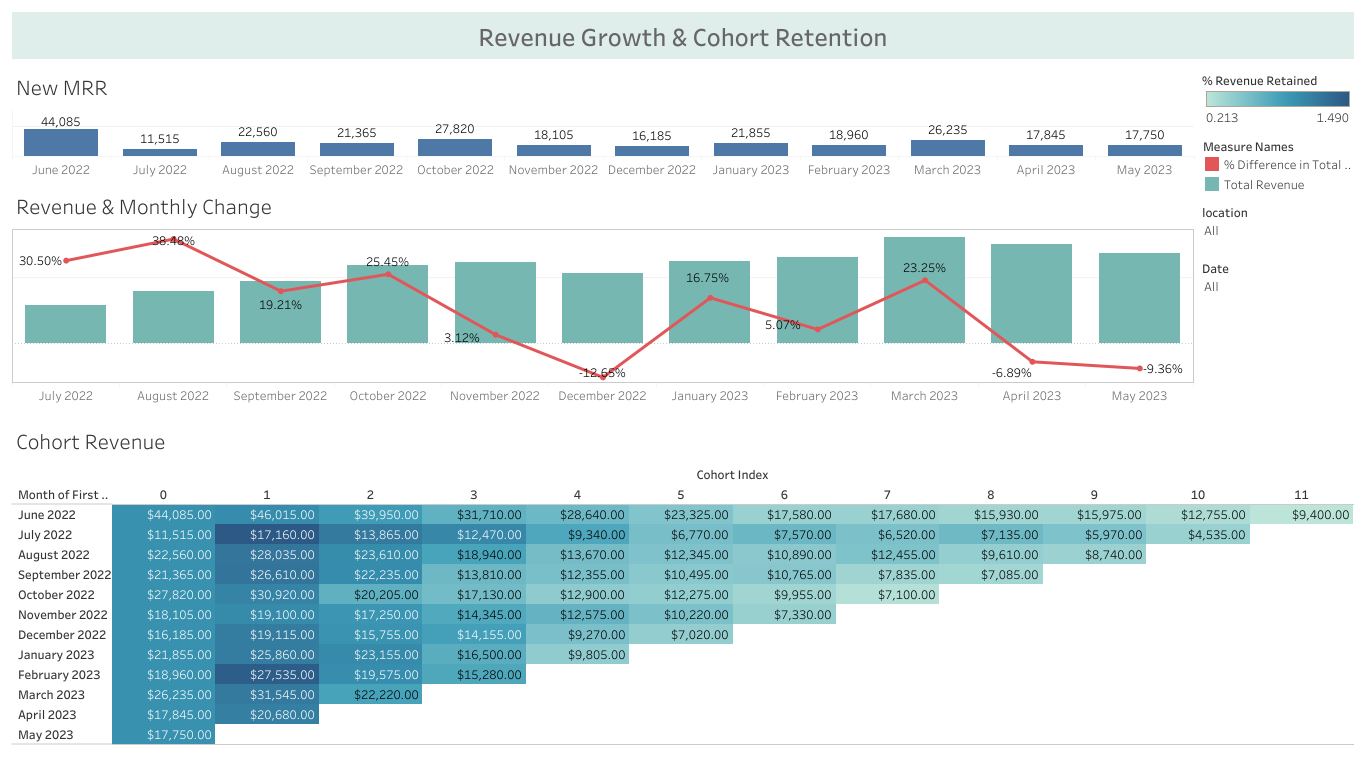

What the dashboard file says about the page in this screenshot:
{"tool":"tableau","page":{"name":"Revenue Growth & Cohort Retention","canvas":[1366,768],"ordinal":1},"visuals":[{"type":"text","box":[8,8,1350,55]},{"type":"worksheet","title":"New MRR","mark":"Bar","rows":["Calculation_1305428969484297"],"cols":["payment_date"],"box":[8,63,1190,119.4]},{"type":"legend","title":"Cohort Revenue","param":"[federated.0ptnrpm1tmrs1c18ewupa0tvfk08].[usr:Calculation_1305428975665163:qk]","box":[1198,63,160,68]},{"type":"legend","title":"Revenue & Monthly Change","param":"[federated.0ptnrpm1tmrs1c18ewupa0tvfk08].[:Measure Names]","box":[1198,131,160,67]},{"type":"worksheet","title":"Revenue & Monthly Change","mark":"Automatic","rows":["Calculation_1154243943665664","Calculation_1154243943665664"],"cols":["payment_date"],"box":[8,182.4,1190,234.6]},{"type":"filter","title":"Revenue & Monthly Change","param":"[federated.0ptnrpm1tmrs1c18ewupa0tvfk08].[none:location:nk]","box":[1198,198,160,56]},{"type":"filter","title":"Revenue & Monthly Change","param":"[federated.0ptnrpm1tmrs1c18ewupa0tvfk08].[my:payment_date:ok]","box":[1198,254,160,56]},{"type":"worksheet","title":"Cohort Revenue","mark":"Square","rows":["Calculation_1305428969271304"],"cols":["Calculation_1305428975378442"],"box":[8,417,1350,343]}]}

Visuals, with their boxes in screenshot pixels (x1, y1, x2, y2), scaled from the page's 1366x768 canvas onto the 1365x767 screenshot:
text: x1=8 y1=8 x2=1357 y2=63
"New MRR" worksheet (Bar marks): x1=8 y1=63 x2=1197 y2=182
"Cohort Revenue" legend: x1=1197 y1=63 x2=1357 y2=131
"Revenue & Monthly Change" legend: x1=1197 y1=131 x2=1357 y2=198
"Revenue & Monthly Change" worksheet: x1=8 y1=182 x2=1197 y2=416
"Revenue & Monthly Change" filter: x1=1197 y1=198 x2=1357 y2=254
"Revenue & Monthly Change" filter: x1=1197 y1=254 x2=1357 y2=310
"Cohort Revenue" worksheet (Square marks): x1=8 y1=416 x2=1357 y2=759
